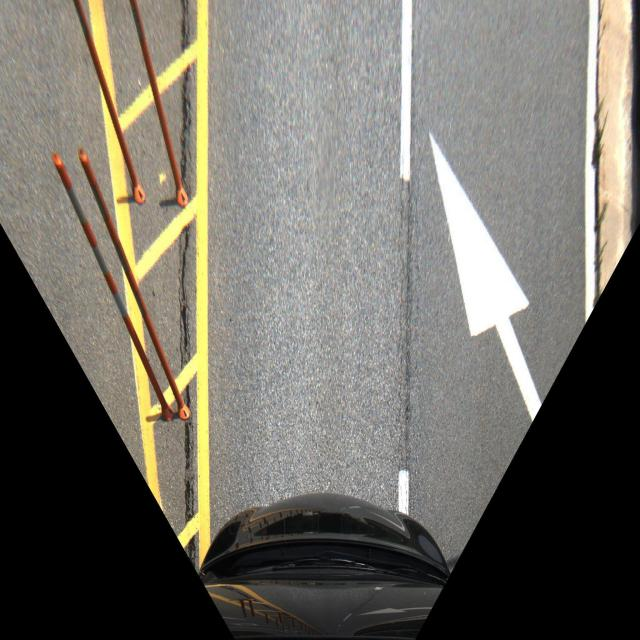chang_lane_left: (403, 124, 607, 460)
